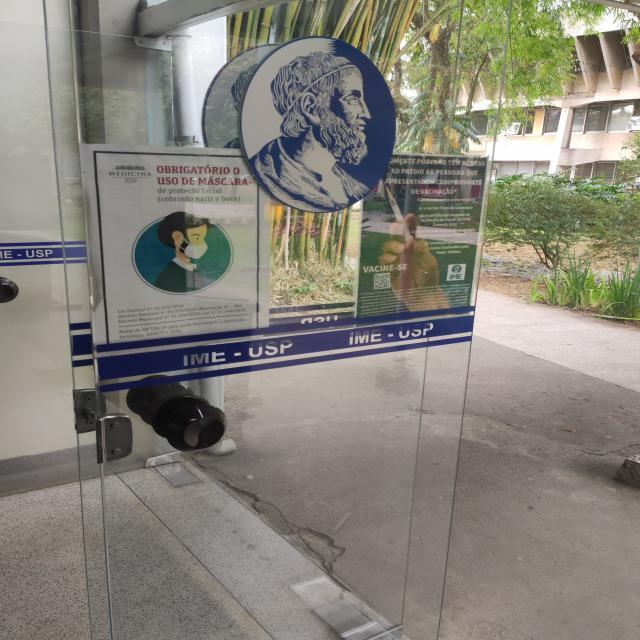qrcode: (376, 275, 390, 290)
